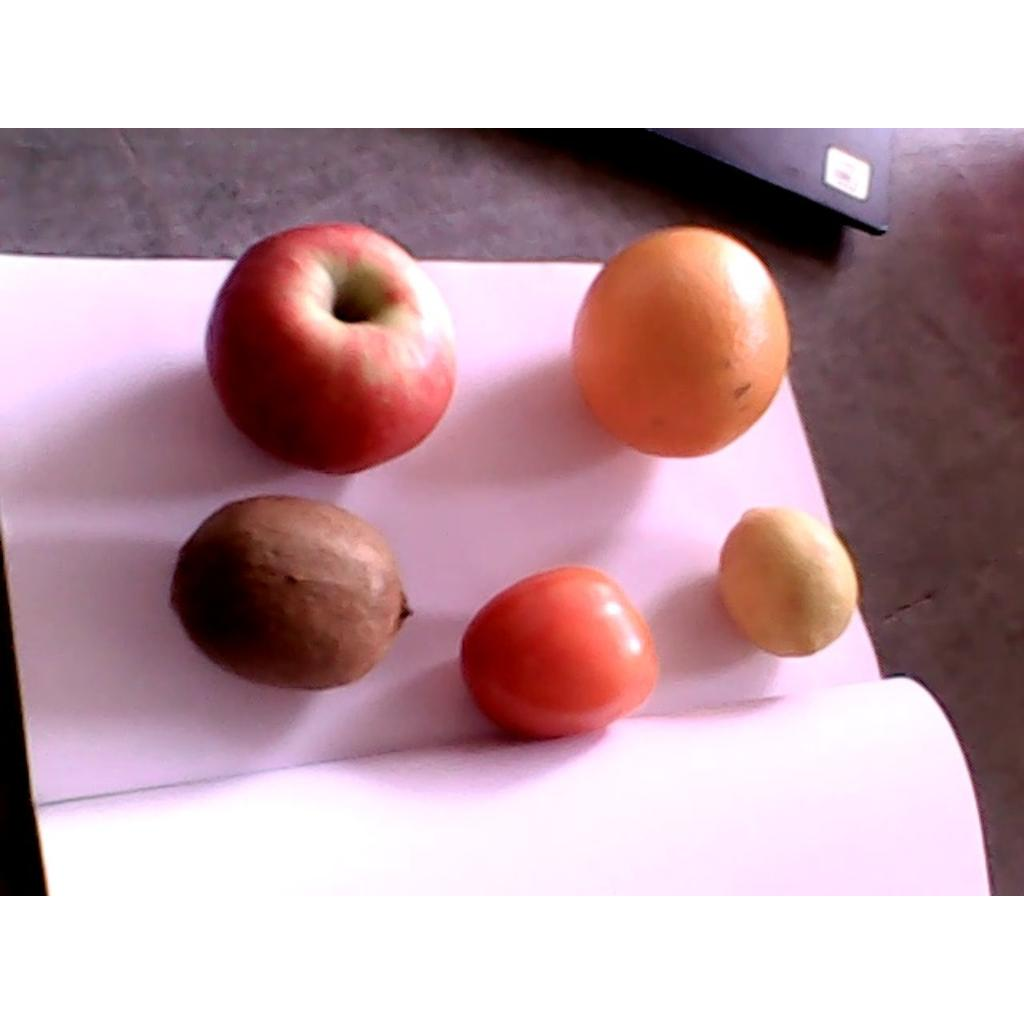apple: (205, 221, 458, 475)
kiwi: (169, 494, 415, 692)
lemon: (716, 506, 857, 656)
orange: (573, 227, 794, 457)
tomato: (460, 567, 657, 736)
